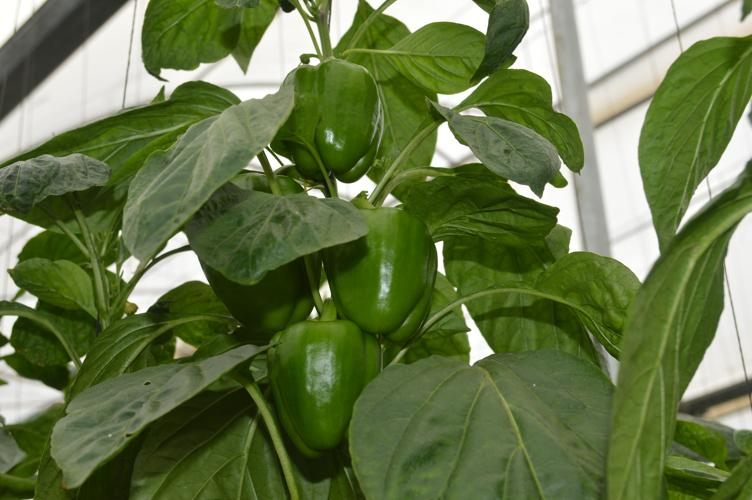BellPepper: (252, 315, 390, 462), (317, 191, 441, 346), (277, 54, 387, 184)
